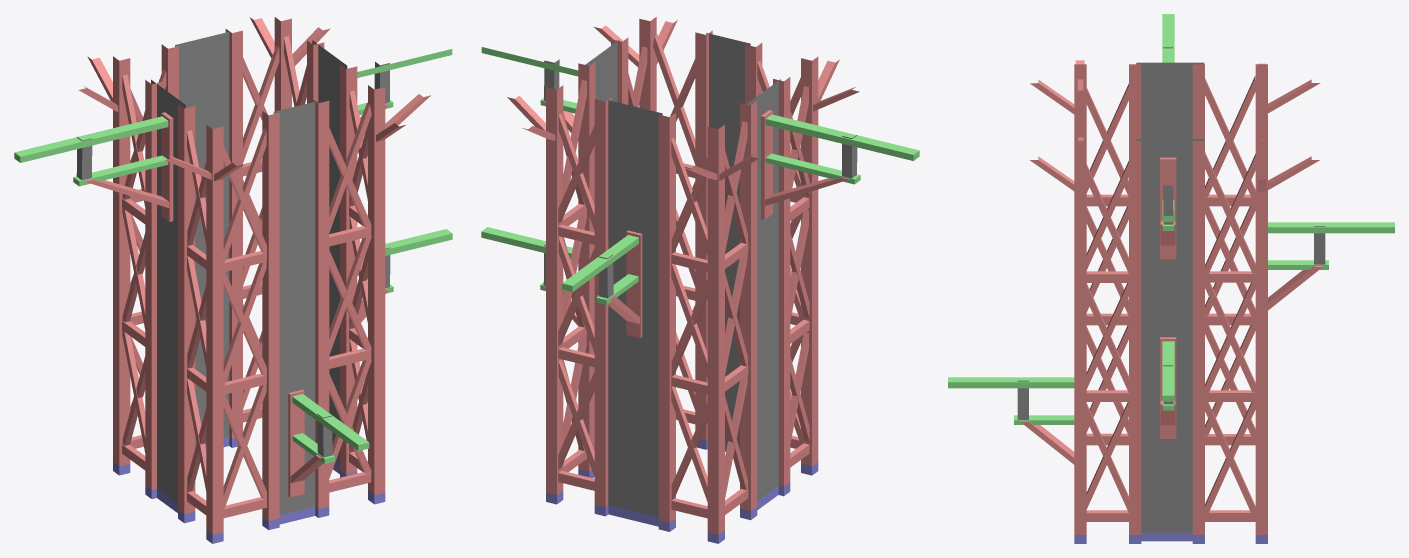
File: L2fortress_02_s__Fort02_tower.gltf
3 renders of one model, left to right at view 1: azimuth 30°, elevation 25°; view 2: azimuth 150°, elevation 25°; view 3: azimuth 270°, elevation 25°, orthographic. The views are drawn at different scales.
Parts seen in each view (by area): view 1: Fort02_tower; view 2: Fort02_tower; view 3: Fort02_tower.
Boxes of the visible parts, x1,y1,x2,y2 form: Fort02_tower: [14, 17, 452, 543]; Fort02_tower: [481, 17, 919, 543]; Fort02_tower: [948, 14, 1394, 543].
Size of the model in its own units: 4.81 by 4.41 by 4.43.
